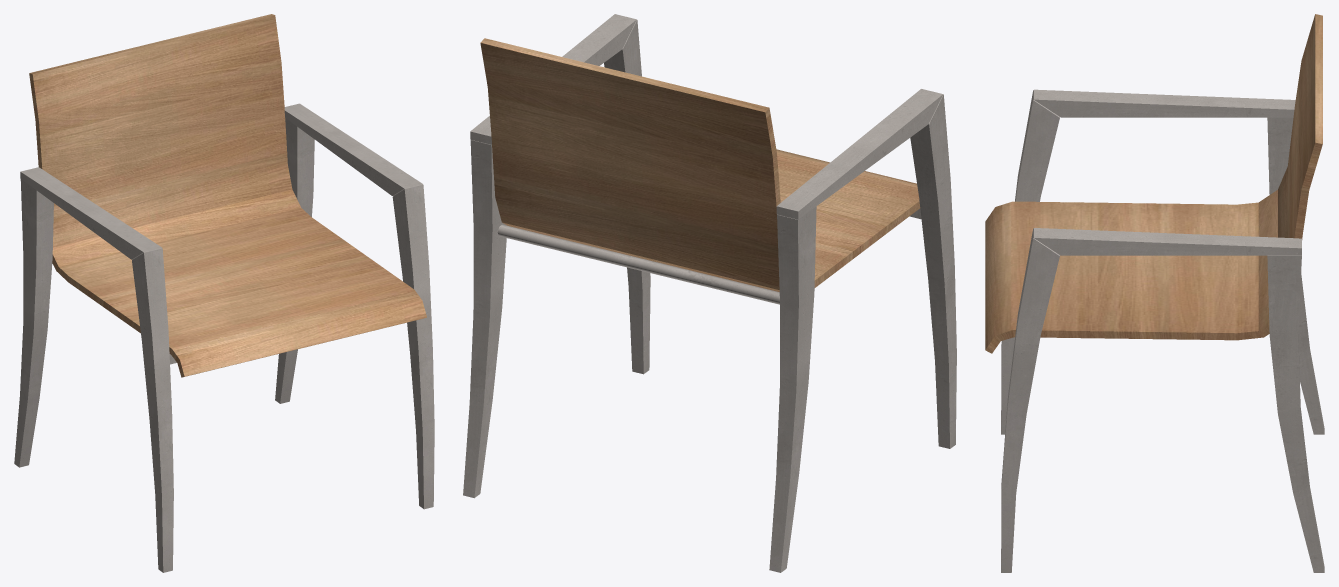
Rendered from Arm Chair_C.DAE.
3 renders of one model, left to right at view 1: azimuth 30°, elevation 25°; view 2: azimuth 150°, elevation 25°; view 3: azimuth 270°, elevation 25°, orthographic. The views are drawn at different scales.
Visible parts, largest first — view 1: Arm_Chair_C; view 2: Arm_Chair_C; view 3: Arm_Chair_C.
Part boxes in pixels (x1,y1,x2,y2): Arm_Chair_C: (14,14,434,572); Arm_Chair_C: (463,14,956,572); Arm_Chair_C: (985,14,1324,572).
Size of the model in its own units: 0.6686 by 0.6474 by 0.8898.
1 material, 1 textured.
